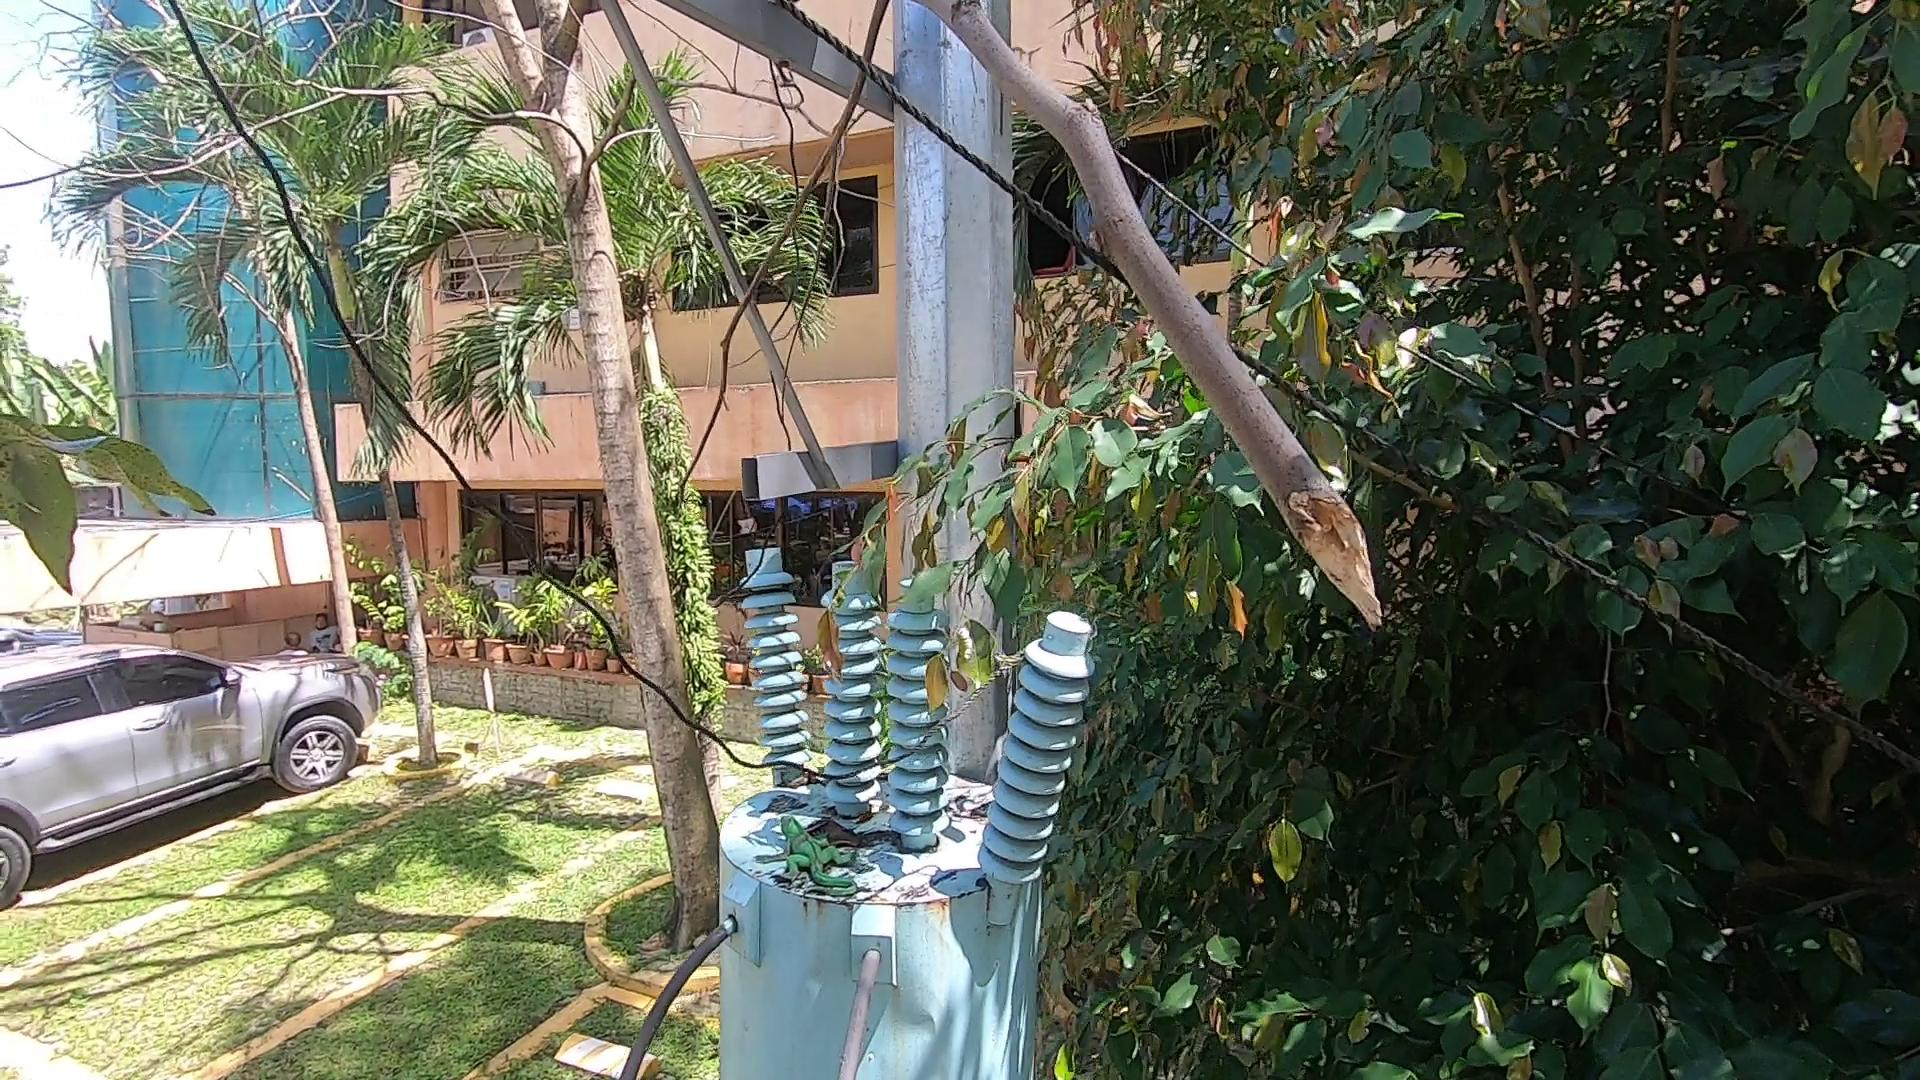branch with leaves: (785, 443, 1097, 709)
leaf: (793, 814, 920, 868), (953, 793, 1021, 840), (779, 757, 820, 790)
tree branch: (674, 3, 1395, 702)
